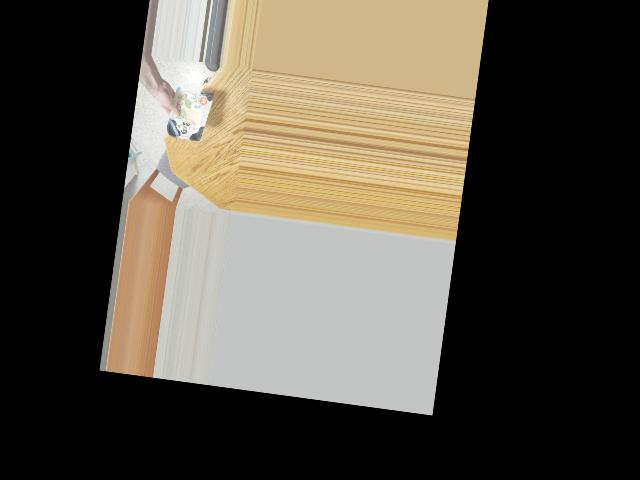cheese: (162, 80, 214, 149)
